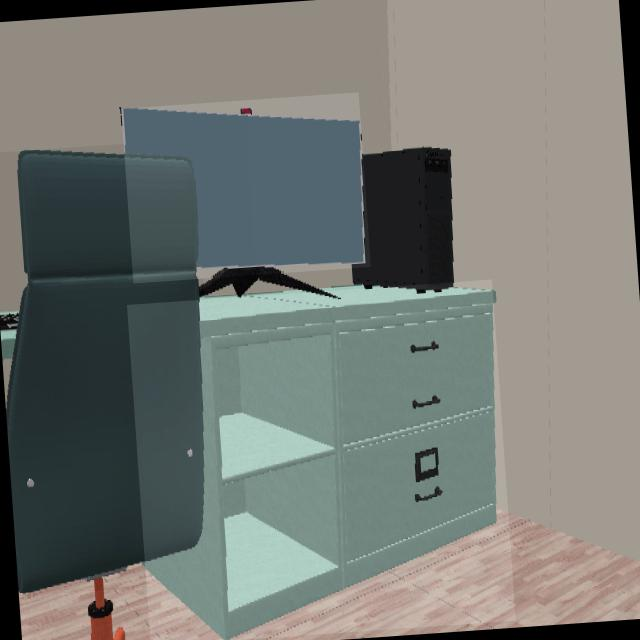cabinet: (145, 289, 496, 640)
chair: (5, 151, 205, 596)
monitor: (121, 109, 365, 273)
